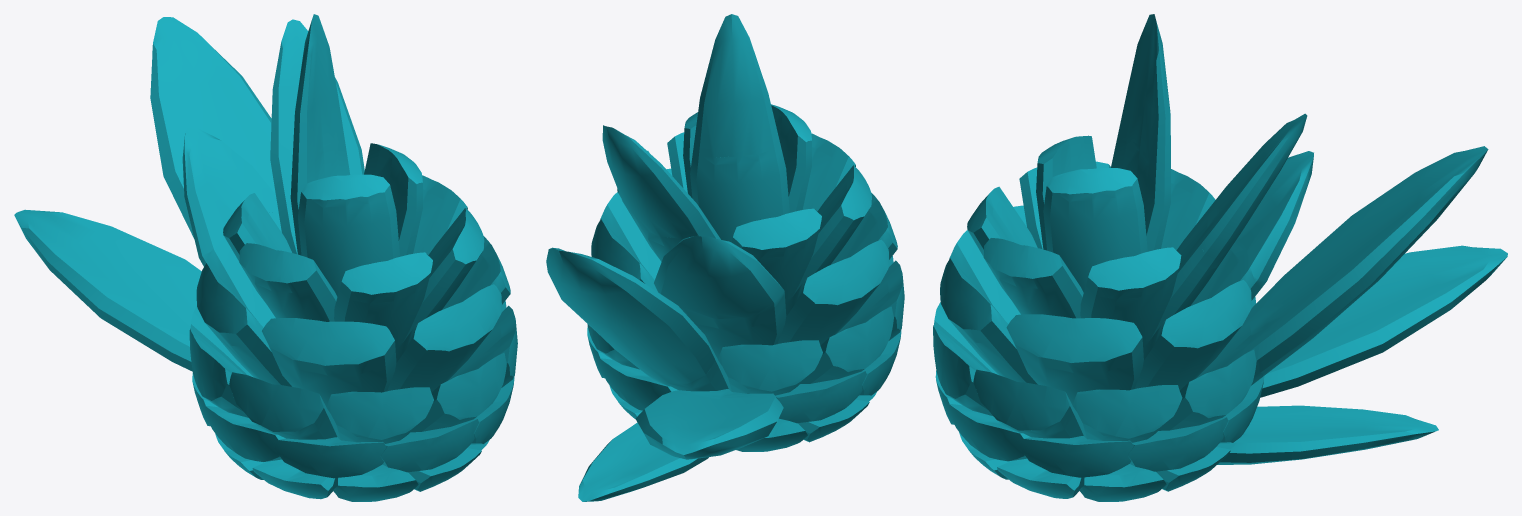
Rendered from agave.glb.
The picture shows the model from 3 angles, left to right: view 1: azimuth 30°, elevation 25°; view 2: azimuth 150°, elevation 25°; view 3: azimuth 270°, elevation 25°; orthographic projection. The views are drawn at different scales.
Visible parts, largest first — view 1: agave-04.001, agave-05.001, agave-03.001, foglia-agave-02, agave-06.001, foglia-agave-03, agave-02.001, foglia-agave-04, agave-01.001, foglia-agave-06, foglia-agave-05; view 2: agave-04.001, agave-05.001, foglia-agave-03, agave-03.001, agave-06.001, foglia-agave-06, foglia-agave-04, foglia-agave-02, agave-02.001, foglia-agave-05, foglia-agave-01, agave-01.001; view 3: agave-04.001, agave-05.001, agave-03.001, foglia-agave-03, agave-06.001, foglia-agave-02, agave-02.001, foglia-agave-01, agave-01.001, foglia-agave-06, foglia-agave-05, foglia-agave-04.
Part boxes in pixels (left/top/right/bottom): agave-04.001: left=196, top=211, right=510, bottom=407; agave-05.001: left=223, top=168, right=484, bottom=351; agave-03.001: left=189, top=301, right=517, bottom=443; foglia-agave-02: left=14, top=209, right=201, bottom=371; agave-06.001: left=290, top=143, right=422, bottom=296; foglia-agave-03: left=150, top=17, right=275, bottom=238; agave-02.001: left=192, top=373, right=514, bottom=478; foglia-agave-04: left=182, top=127, right=278, bottom=266; agave-01.001: left=215, top=434, right=489, bottom=501; foglia-agave-06: left=292, top=14, right=345, bottom=170; foglia-agave-05: left=270, top=19, right=364, bottom=184; agave-04.001: left=591, top=168, right=897, bottom=359; agave-05.001: left=617, top=132, right=871, bottom=305; foglia-agave-03: left=546, top=247, right=715, bottom=383; agave-03.001: left=587, top=256, right=904, bottom=395; agave-06.001: left=683, top=104, right=811, bottom=242; foglia-agave-06: left=693, top=14, right=779, bottom=157; foglia-agave-04: left=654, top=235, right=784, bottom=319; foglia-agave-02: left=635, top=392, right=783, bottom=459; agave-02.001: left=587, top=327, right=901, bottom=423; foglia-agave-05: left=602, top=125, right=707, bottom=238; foglia-agave-01: left=578, top=422, right=708, bottom=501; agave-01.001: left=609, top=385, right=876, bottom=451; agave-04.001: left=940, top=205, right=1259, bottom=405; agave-05.001: left=967, top=161, right=1225, bottom=348; agave-03.001: left=933, top=297, right=1265, bottom=442; foglia-agave-03: left=1257, top=146, right=1488, bottom=376; agave-06.001: left=1036, top=135, right=1170, bottom=292; foglia-agave-02: left=1260, top=245, right=1507, bottom=397; agave-02.001: left=935, top=371, right=1264, bottom=477; foglia-agave-01: left=1217, top=405, right=1438, bottom=464; agave-01.001: left=959, top=432, right=1238, bottom=501; foglia-agave-06: left=1117, top=14, right=1170, bottom=177; foglia-agave-05: left=1201, top=113, right=1307, bottom=259; foglia-agave-04: left=1238, top=151, right=1313, bottom=289.
Size of the model in its own units: 0.8399 by 1.17 by 1.39.
